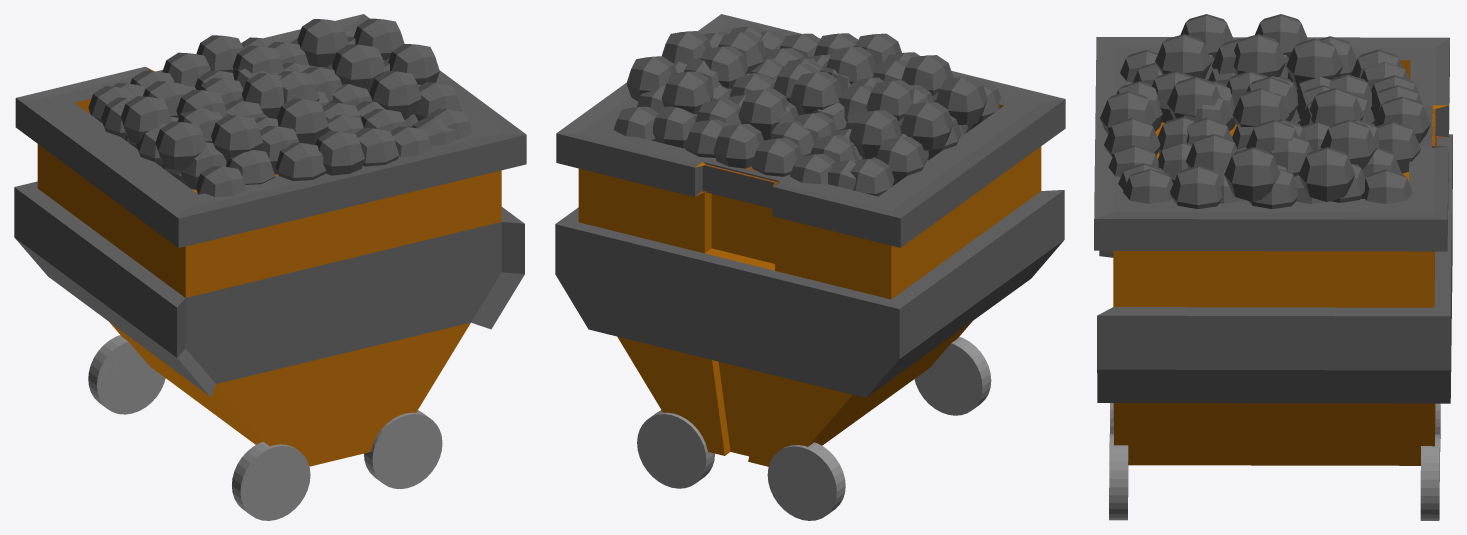
Rendered from Carrusel.fbx.
The picture shows the model from 3 angles, left to right: view 1: azimuth 30°, elevation 25°; view 2: azimuth 150°, elevation 25°; view 3: azimuth 270°, elevation 25°; orthographic projection. The views are drawn at different scales.
Visible parts, largest first — view 1: CarretillaMalo; view 2: CarretillaMalo; view 3: CarretillaMalo.
Part boxes in pixels (x1,y1,x2,y2): CarretillaMalo: (14,14,526,520); CarretillaMalo: (555,14,1065,520); CarretillaMalo: (1094,14,1452,520).
Size of the model in its own units: 221 by 231 by 183.
